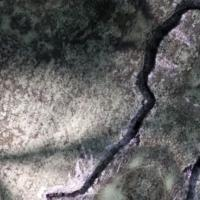crack: (50, 0, 198, 199)
